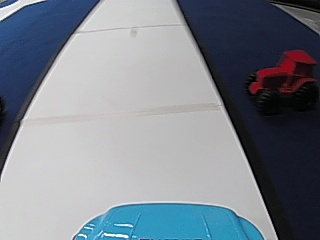tractor: (243, 46, 319, 114)
